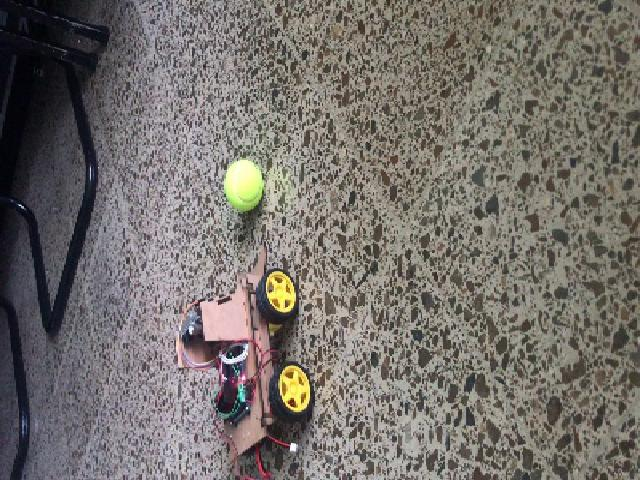Ball: (221, 161, 264, 210)
Robot: (174, 242, 315, 460)
